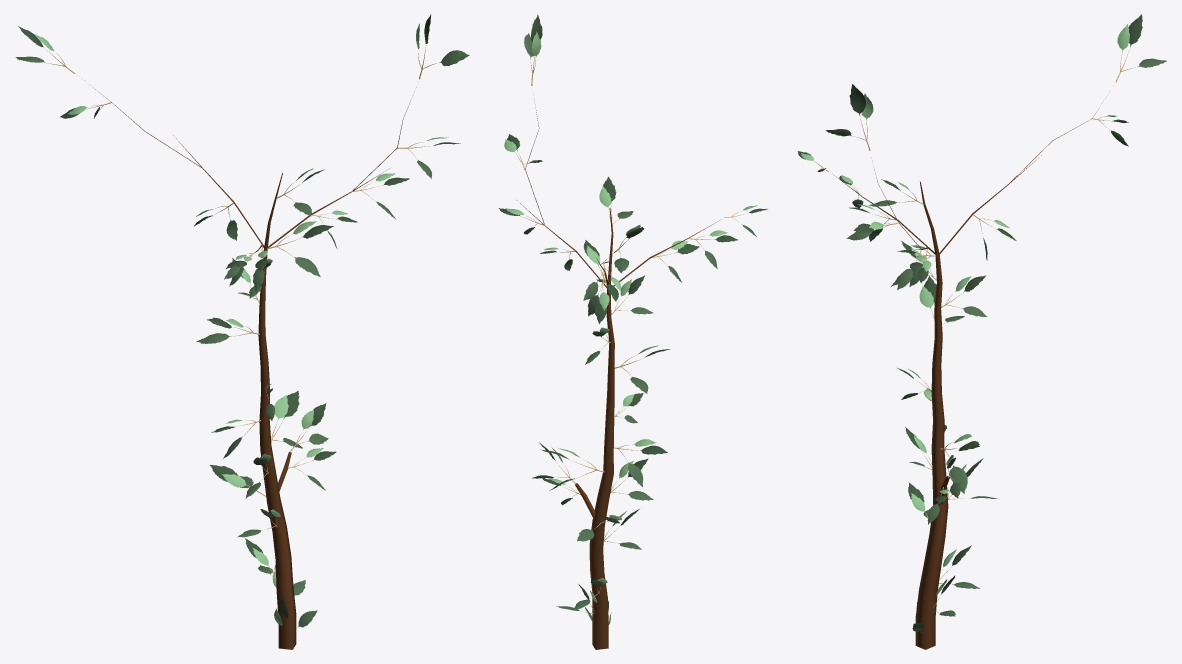
File: Tree22.fbx
3 renders of one model, left to right at view 1: azimuth 30°, elevation 25°; view 2: azimuth 150°, elevation 25°; view 3: azimuth 270°, elevation 25°, orthographic. The views are drawn at different scales.
Parts seen in each view (by area): view 1: Árbol.002, Hojas|tree|Dupli|13, Hojas|tree|Dupli|17; view 2: Árbol.002, Hojas|tree|Dupli|7, Hojas|tree|Dupli|23, Hojas|tree|Dupli|1, Hojas|tree|Dupli|25, Hojas|tree|Dupli|20, Hojas|tree|Dupli|2, Hojas|tree|Dupli|10; view 3: Árbol.002, Hojas|tree|Dupli|5, Hojas|tree|Dupli|23, Hojas|tree|Dupli|17.
Boxes of the visible parts, left/top/right/bottom form: Árbol.002: left=84, top=80, right=416, bottom=649; Hojas|tree|Dupli|13: left=267, top=221, right=333, bottom=276; Hojas|tree|Dupli|17: left=271, top=390, right=302, bottom=448; Árbol.002: left=517, top=104, right=719, bottom=649; Hojas|tree|Dupli|7: left=613, top=439, right=667, bottom=486; Hojas|tree|Dupli|23: left=524, top=14, right=542, bottom=85; Hojas|tree|Dupli|1: left=587, top=271, right=609, bottom=324; Hojas|tree|Dupli|25: left=599, top=176, right=633, bottom=225; Hojas|tree|Dupli|20: left=611, top=275, right=653, bottom=314; Hojas|tree|Dupli|2: left=583, top=262, right=621, bottom=301; Hojas|tree|Dupli|10: left=610, top=458, right=653, bottom=500; Árbol.002: left=834, top=98, right=1105, bottom=649; Hojas|tree|Dupli|5: left=1115, top=14, right=1166, bottom=82; Hojas|tree|Dupli|23: left=825, top=84, right=873, bottom=150; Hojas|tree|Dupli|17: left=940, top=434, right=979, bottom=493.
Size of the model in its own units: 361 by 742 by 407.
